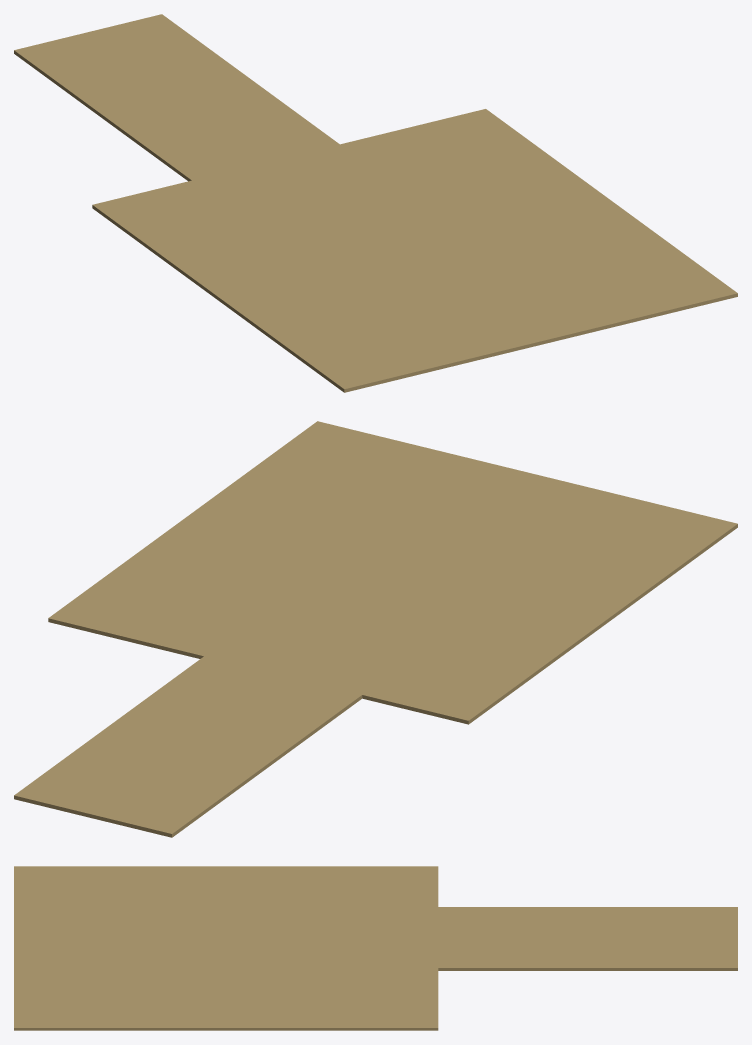
Rendered from geo_basement_ceiling_mainRoom_high.fbx.
3 views of the same model, one above another, from view 1: azimuth 30°, elevation 25°; view 2: azimuth 150°, elevation 25°; view 3: azimuth 270°, elevation 25° (orthographic). The views are drawn at different scales.
Visible parts, largest first — view 1: geo_basement_ceiling_mainRoom:New_Ceiling; view 2: geo_basement_ceiling_mainRoom:New_Ceiling; view 3: geo_basement_ceiling_mainRoom:New_Ceiling.
Part boxes in pixels (x1,y1,x2,y2): geo_basement_ceiling_mainRoom:New_Ceiling: (14,14,737,392); geo_basement_ceiling_mainRoom:New_Ceiling: (14,421,737,837); geo_basement_ceiling_mainRoom:New_Ceiling: (14,866,737,1030).
Size of the model in its own units: 582 by 5 by 1102.
